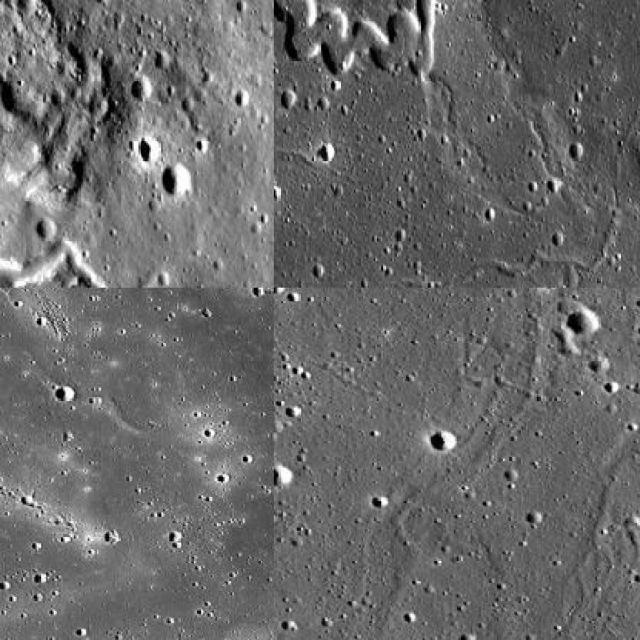rille: (300, 302, 551, 638), (274, 80, 638, 286), (150, 292, 272, 638), (497, 390, 638, 638), (274, 0, 437, 82), (0, 236, 163, 286), (274, 145, 321, 180)
